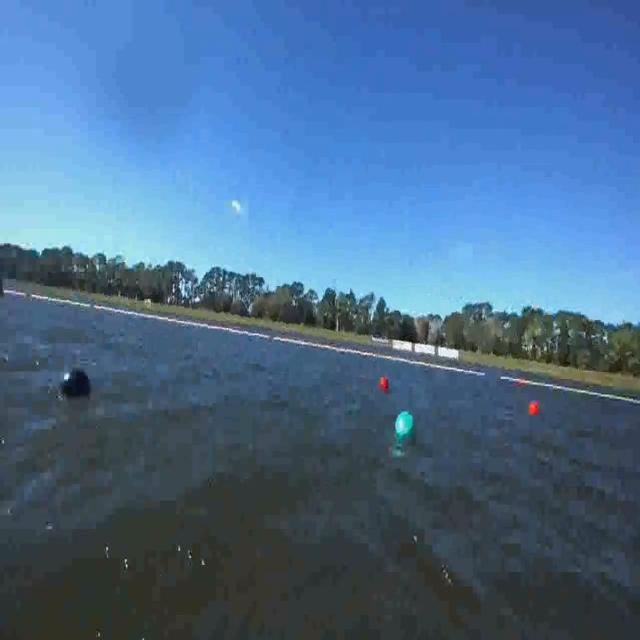black-buoy: (56, 366, 94, 401)
green-buoy: (397, 412, 417, 441)
red-buoy: (531, 402, 542, 417), (382, 378, 389, 391)
